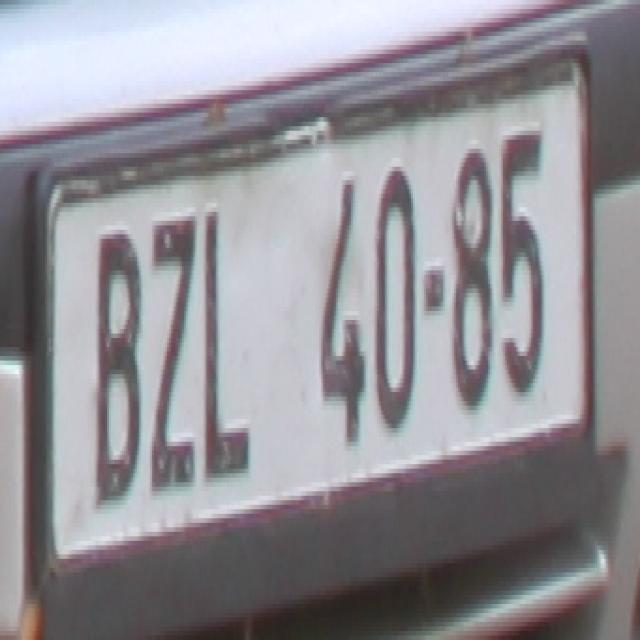0: (372, 158, 416, 438)
4: (317, 166, 368, 442)
5: (498, 122, 542, 406)
8: (448, 140, 496, 420)
B: (94, 220, 142, 492)
L: (200, 194, 250, 478)
Z: (148, 212, 197, 492)
